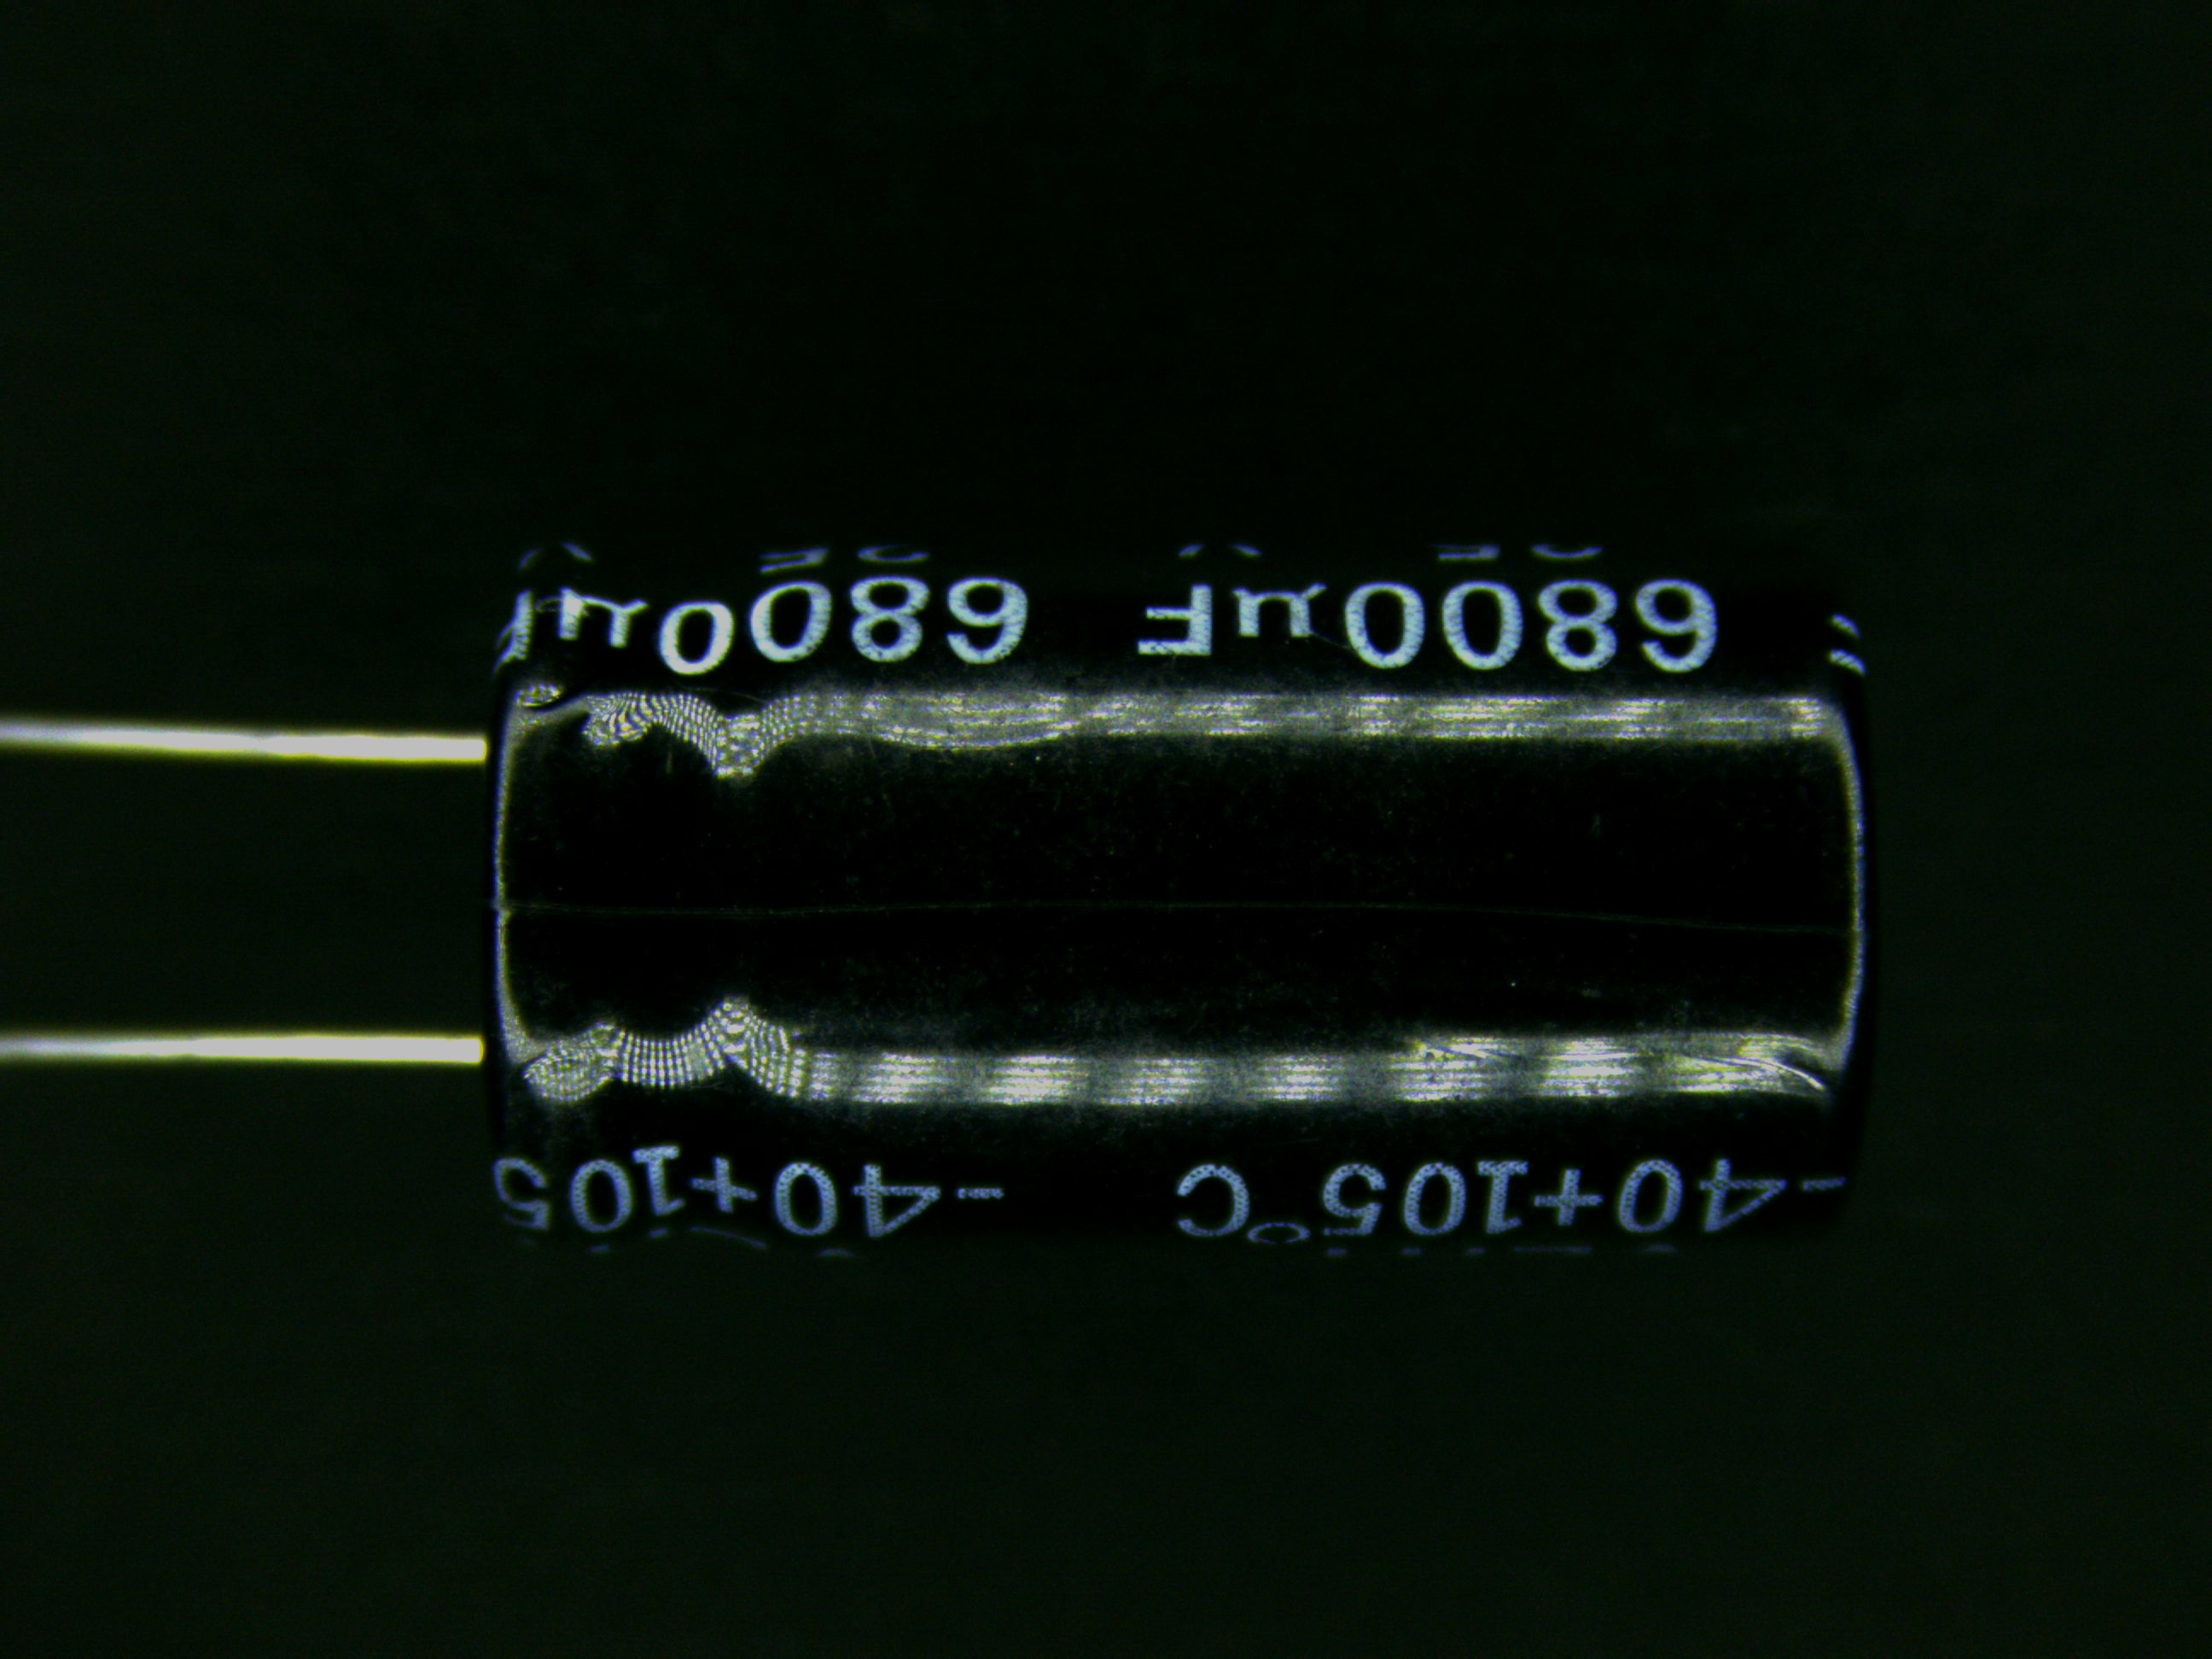c3: (171, 528, 1892, 1260)
